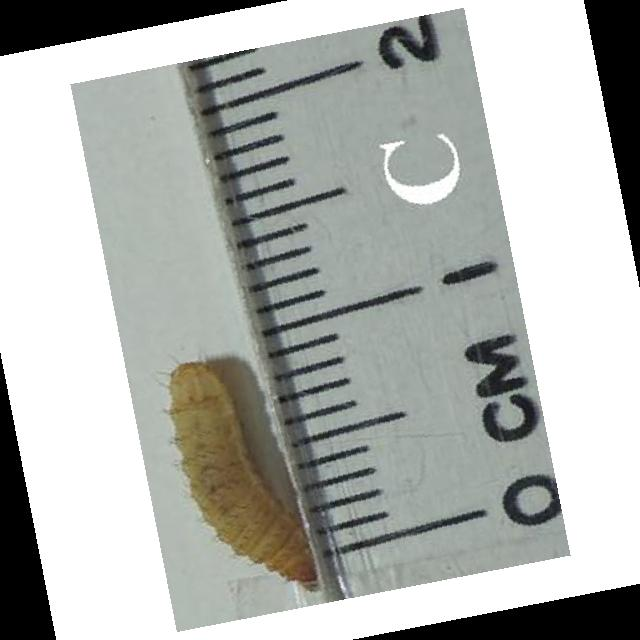Maggot: (161, 351, 329, 589)
